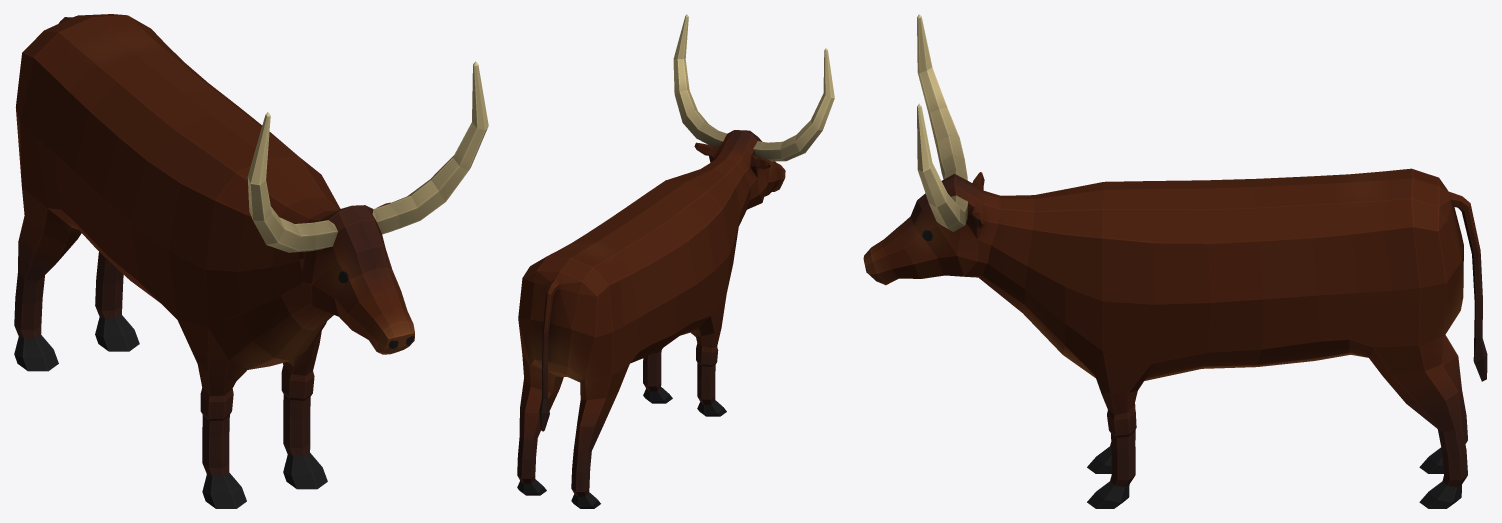
Rendered from AnkoleLonghornCattle.obj.
3 renders of one model, left to right at view 1: azimuth 30°, elevation 25°; view 2: azimuth 150°, elevation 25°; view 3: azimuth 270°, elevation 25°, orthographic. The views are drawn at different scales.
Parts seen in each view (by area): view 1: AnkoleLonghornCattle_mesh; view 2: AnkoleLonghornCattle_mesh; view 3: AnkoleLonghornCattle_mesh.
Part boxes in pixels (box(x1,y1,x2,y2)): AnkoleLonghornCattle_mesh: box(14, 14, 488, 508); AnkoleLonghornCattle_mesh: box(517, 14, 834, 508); AnkoleLonghornCattle_mesh: box(863, 14, 1487, 508).
Size of the model in its own units: 5.28 by 10.21 by 13.55.
Materials: 1 (1 with a texture image).
